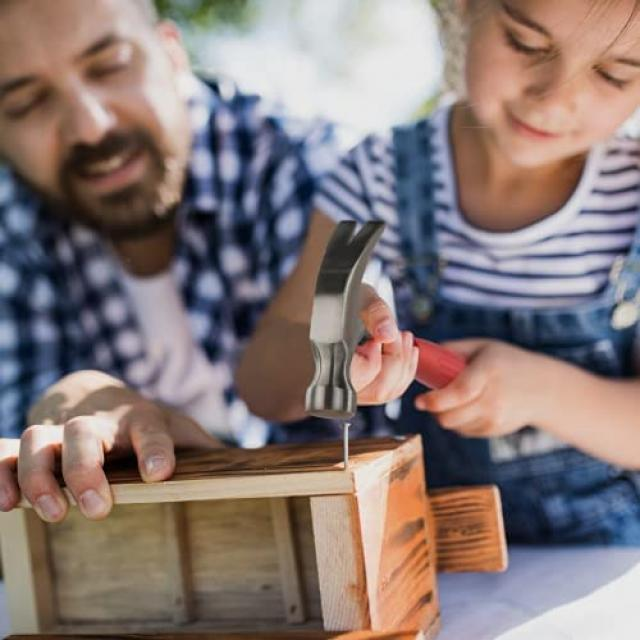hammer: (300, 222, 480, 419)
